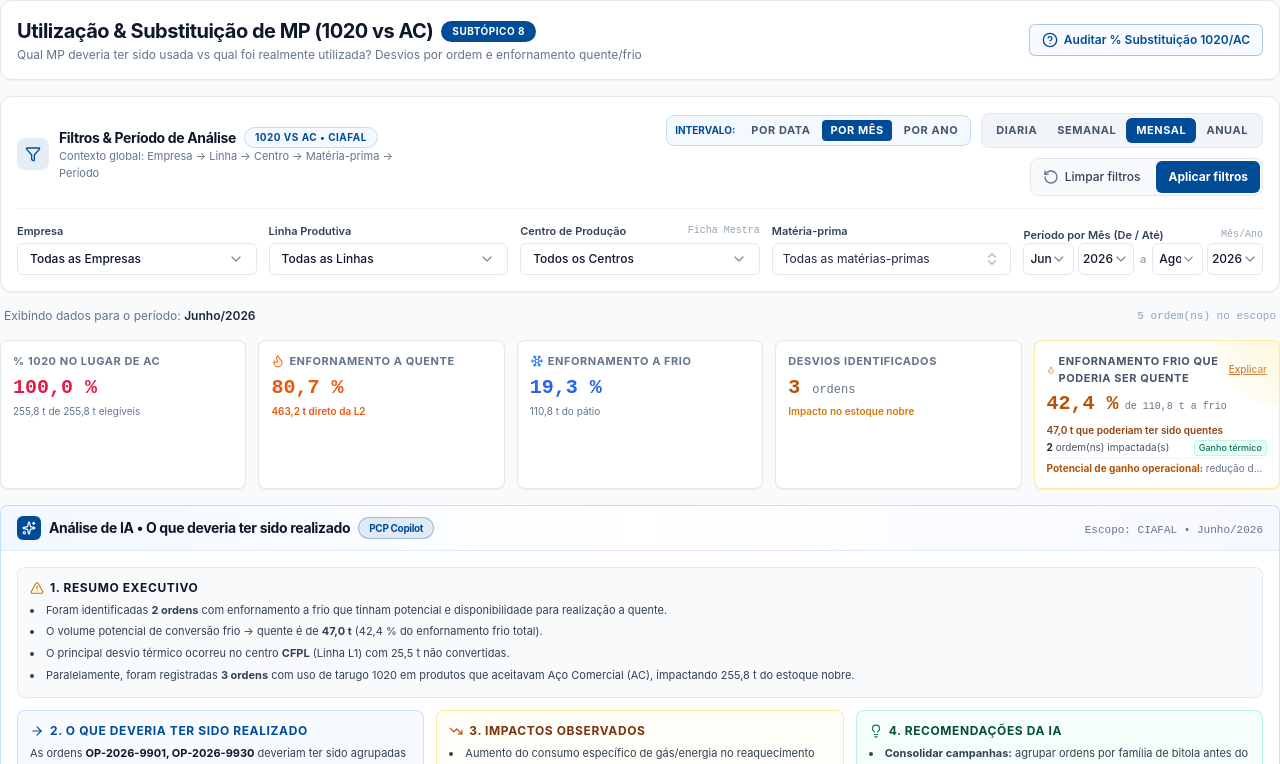
Scenario: Suíte de Aceitação: Evolução Utilização e Substituição de MP - Potencial Térmico e IA › Cenário 6: impede aplicação de intervalo inválido (Até < De) e informa o motivo claramente
Step 1. Click the button with test id "period-mode-data" → (781,130), box x1=743 y1=120 x2=818 y2=140
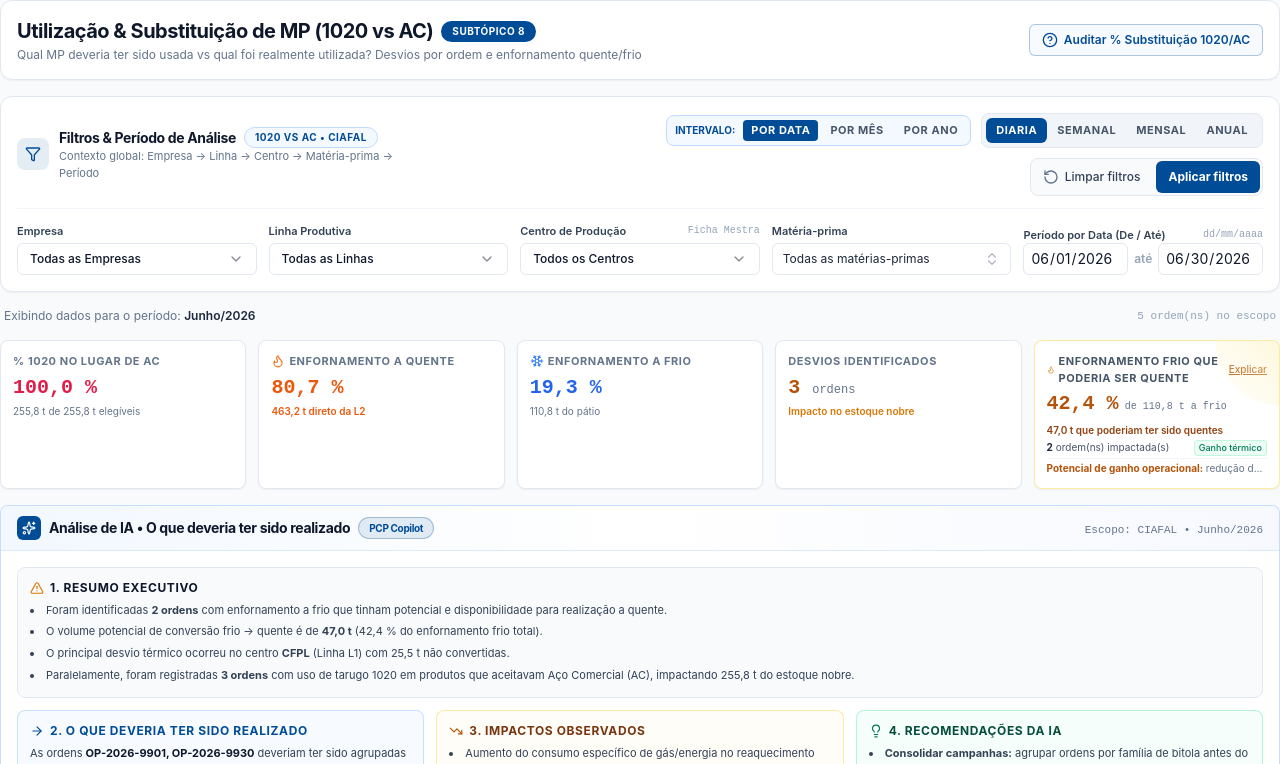
// Data final anterior à data inicial
Step 2. Type "2026-06-30" into the date field with test id "filter-period-date-from" → (1076,259), box x1=1023 y1=243 x2=1128 y2=275
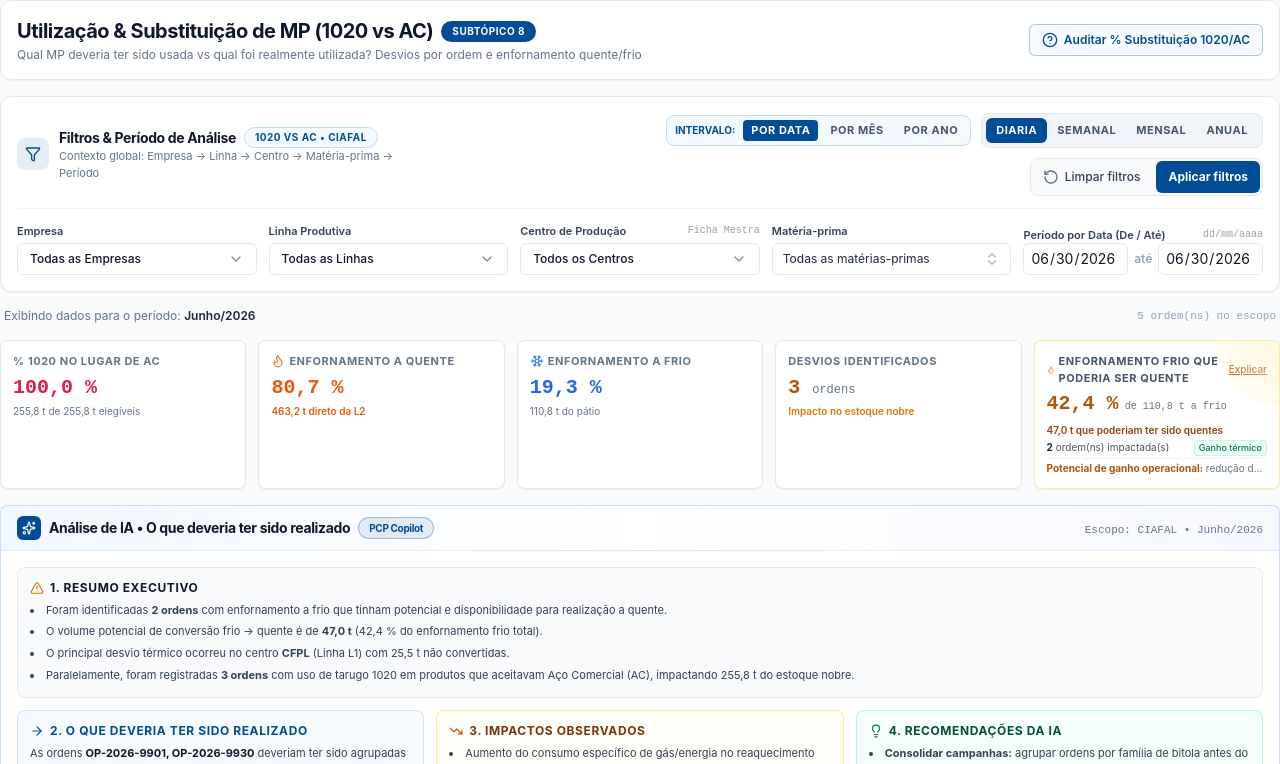
Step 3. Type "2026-06-01" into the date field with test id "filter-period-date-to" → (1211,259), box x1=1158 y1=243 x2=1263 y2=275
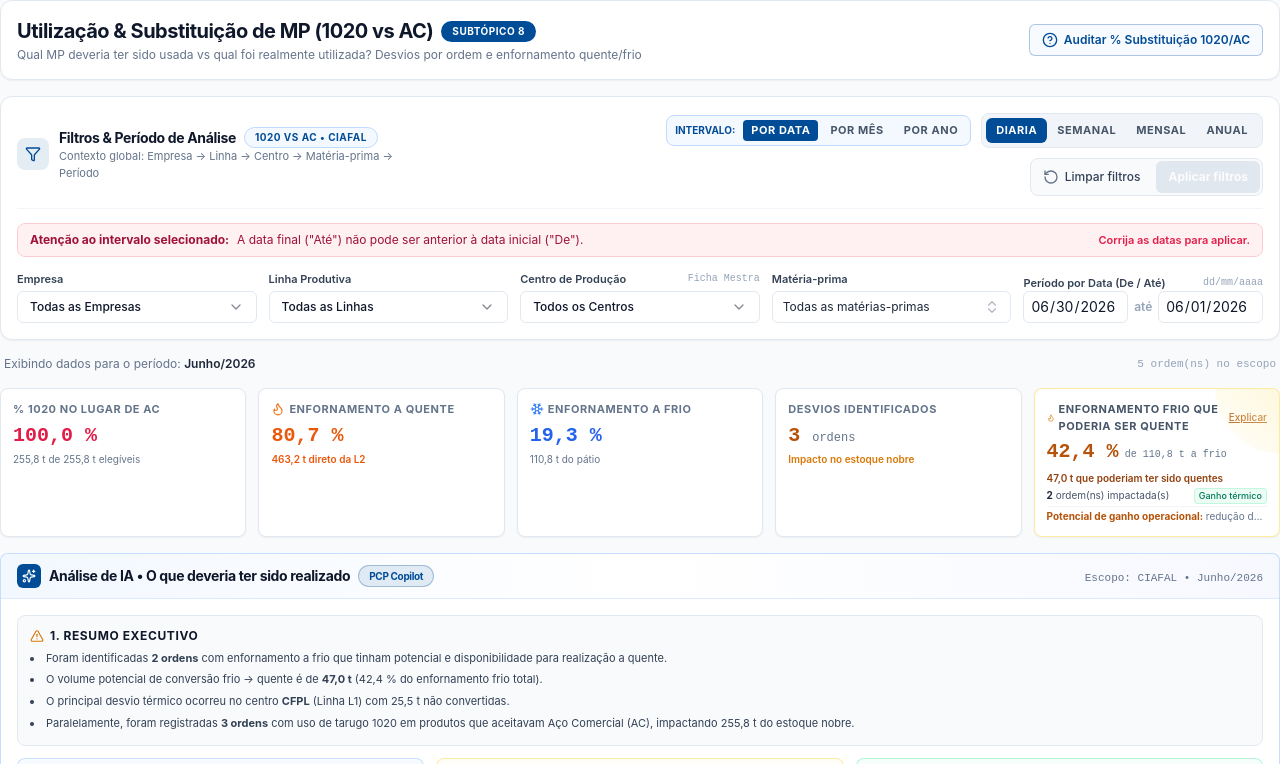
Expected: the element with test id "period-validation-error-banner" is shown, x1=17 y1=222 x2=1263 y2=256
Expected: the text "A data final (\"Até\") não pode ser anterior à data inicial (\"De\")" is shown, x1=237 y1=232 x2=583 y2=246
Expected: the button "Aplicar filtros" is disabled, x1=1156 y1=160 x2=1260 y2=192
